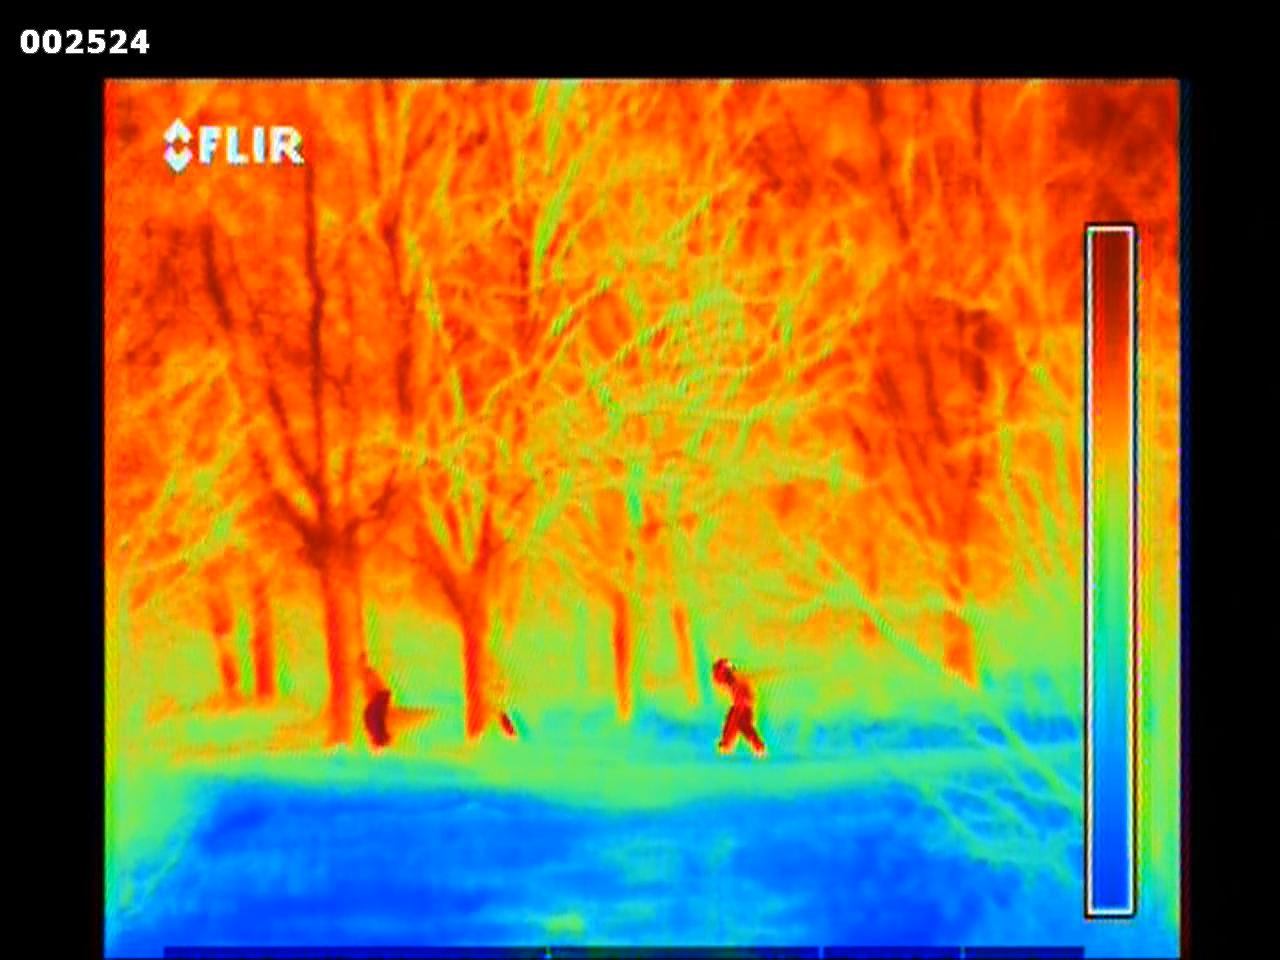persone: (702, 662, 769, 757), (354, 657, 400, 755)
